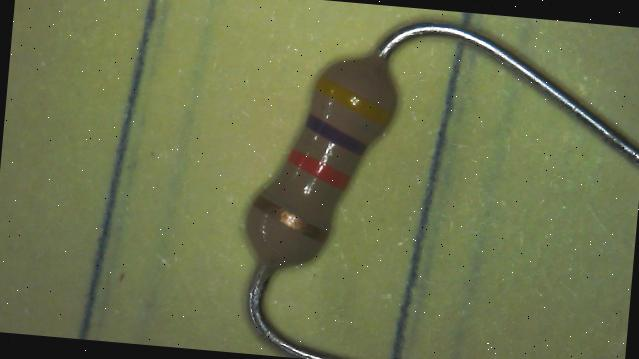gold: (253, 196, 327, 239)
orange: (286, 148, 350, 189)
resistor: (221, 28, 427, 288)
violet: (302, 114, 369, 156)
yellow: (313, 77, 394, 126)
